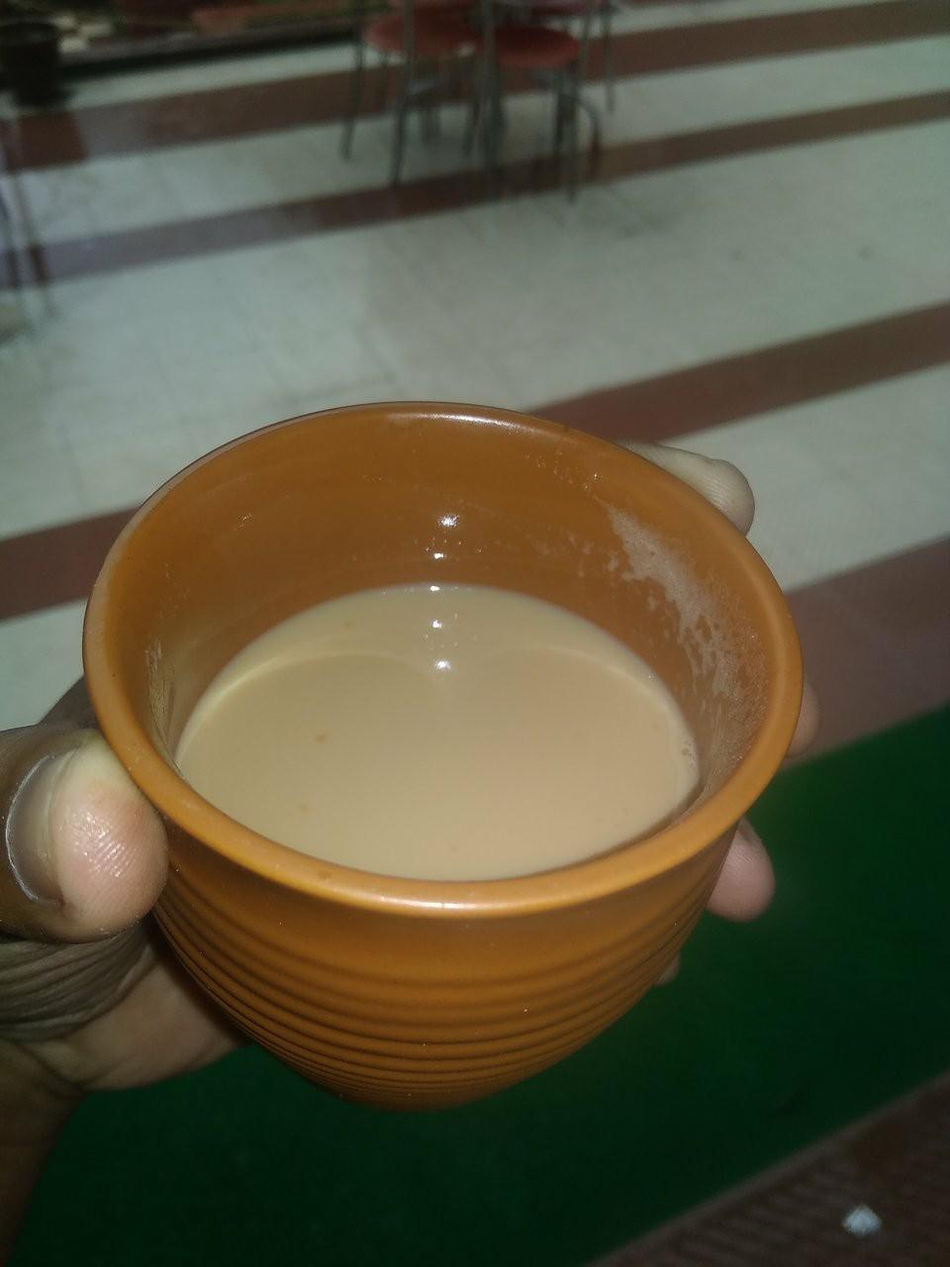Chai: (186, 583, 704, 876)
